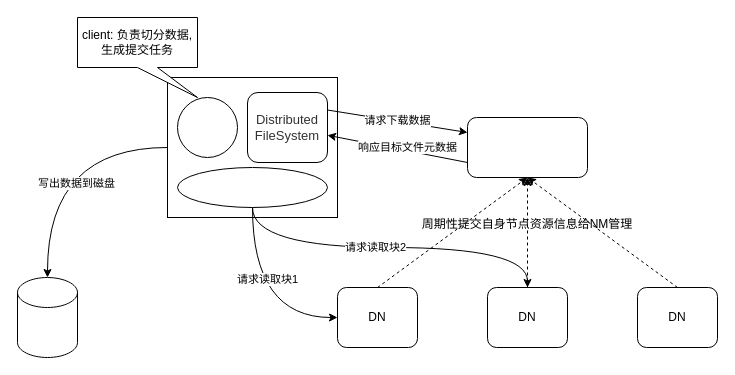
Some shapes in this 735 by 375 pixel diagram are drawn without their labels. The shapes that lost their labels are listed below. From the top down, each one's centre as x and y in pixels, then its label:
(207,127): client
(527,147): NM
(252,187): FSDataInputStream
